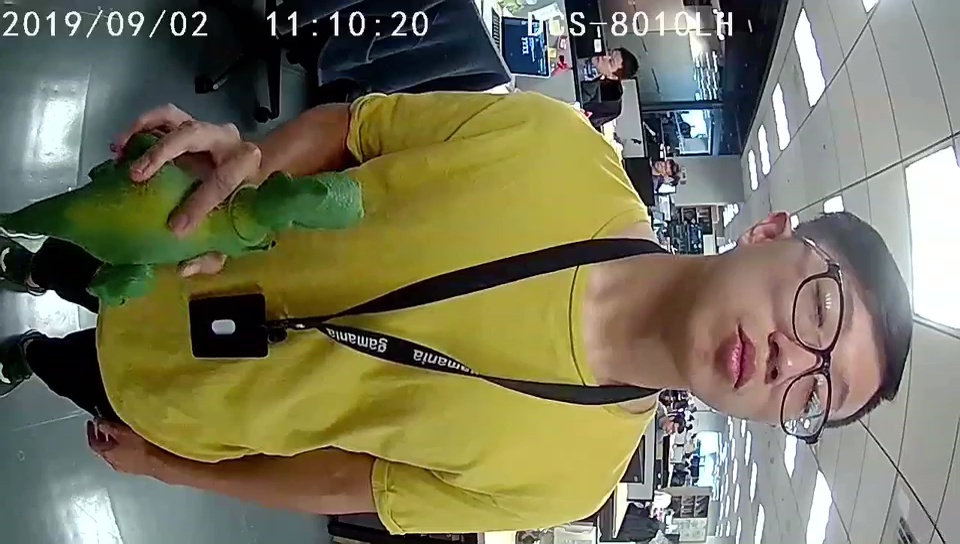rex: (89, 159, 364, 304)
